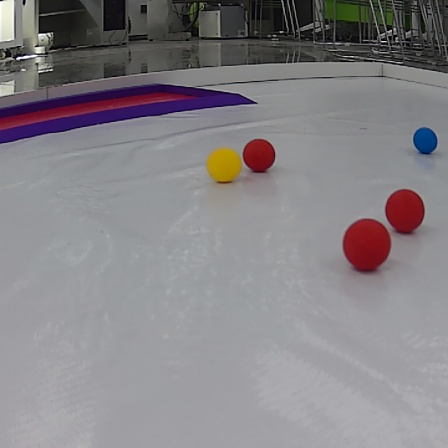blue: (410, 125, 441, 156)
red: (341, 217, 391, 270), (385, 187, 426, 233), (243, 139, 275, 173)
red_aim: (1, 78, 266, 144)
yellow: (206, 147, 241, 183)
